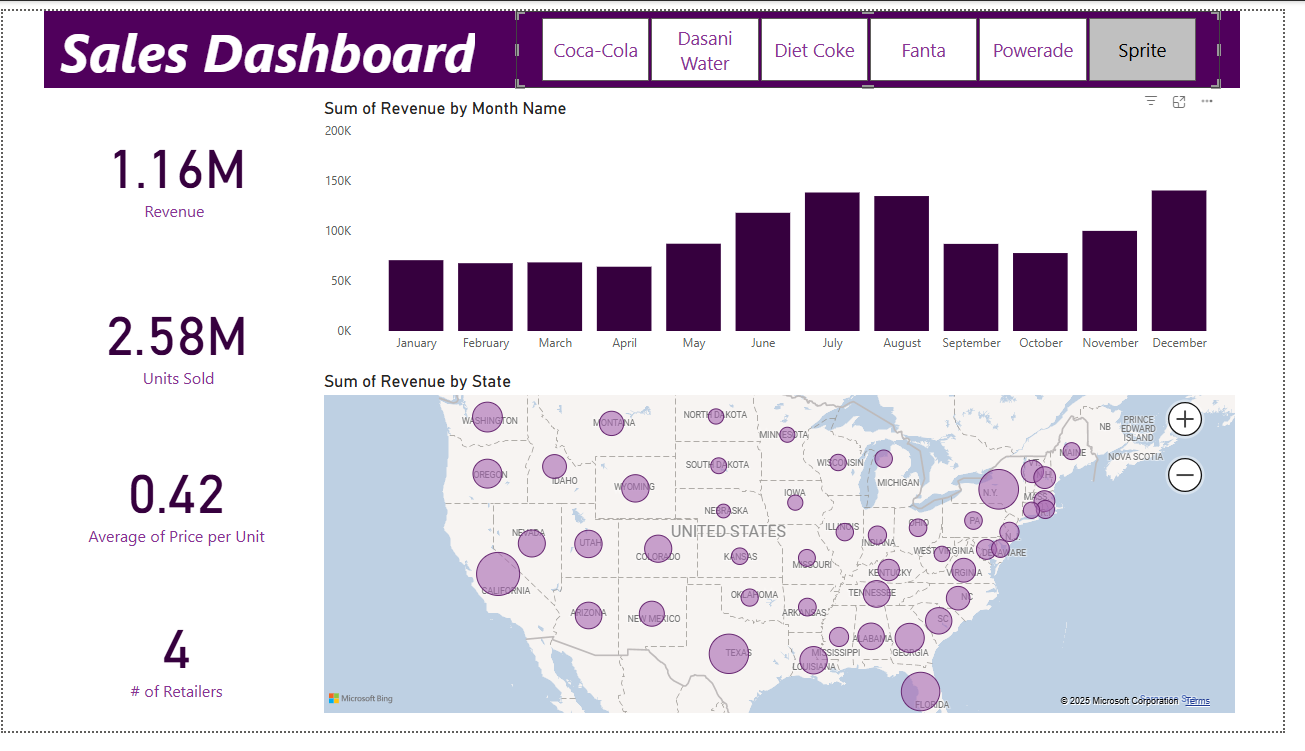

Layout of this report page (visuals, bound fields, positions):
{"tool":"powerbi","page":{"name":"Page 1","canvas":[1280,720],"ordinal":0},"visuals":[{"type":"shape","box":[41,0,1196,77],"z":0},{"type":"card","fields":{"Values":["Sum(Data.Revenue )"]},"box":[31,87,285,148],"z":1},{"type":"card","fields":{"Values":["Avg(Data.Price per Unit)"]},"box":[31,420.3,285,132],"z":2},{"type":"card","fields":{"Values":["Sum(Data.Units Sold)"]},"box":[31,257.7,285,140],"z":3},{"type":"columnChart","fields":{"Y":["Sum(Data.Revenue )"],"Category":["Data.Month Name"]},"box":[316,87,921,263],"z":4},{"type":"map","fields":{"Category":["Data.State"],"Size":["Sum(Data.Revenue )"]},"box":[316,360,921,347],"z":5},{"type":"slicer","fields":{"Values":["Data.Beverage Brand"]},"box":[513,0,704,77],"z":6},{"type":"card","fields":{"Values":["Count(Data.Retailer)"]},"box":[31,575,285,132],"z":7}]}

Visuals, with their boxes in screenshot pixels (x1, y1, x2, y2), scaled from the page's 1280x720 canvas onto the 1305x751 screenshot:
shape: [left=42, top=0, right=1261, bottom=80]
card - Sum(Data.Revenue ): [left=32, top=91, right=322, bottom=245]
card - Avg(Data.Price per Unit): [left=32, top=438, right=322, bottom=576]
card - Sum(Data.Units Sold): [left=32, top=269, right=322, bottom=415]
columnChart - Sum(Data.Revenue ) x Data.Month Name: [left=322, top=91, right=1261, bottom=365]
map - Data.State x Sum(Data.Revenue ): [left=322, top=376, right=1261, bottom=737]
slicer - Data.Beverage Brand: [left=523, top=0, right=1241, bottom=80]
card - Count(Data.Retailer): [left=32, top=600, right=322, bottom=737]
